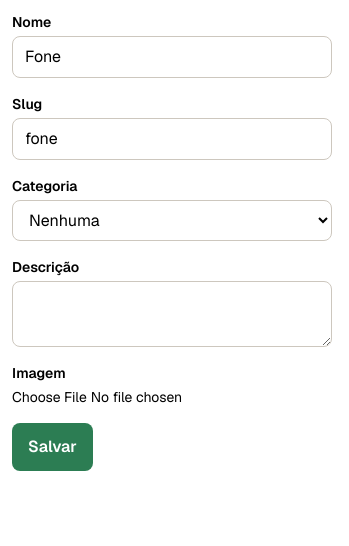
ProductForm › erro inesperado no submit: mostra mensagem genérica fixa
Click the button "Salvar" at (52,447), box [12, 423, 93, 471]
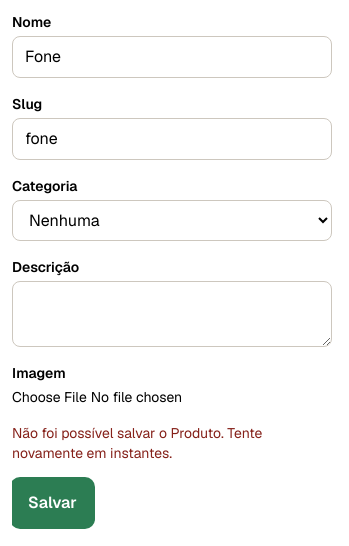
Check: the text "Não foi possível salvar o Produto. Tente novamente em instantes." is shown, box [12, 424, 262, 462]
